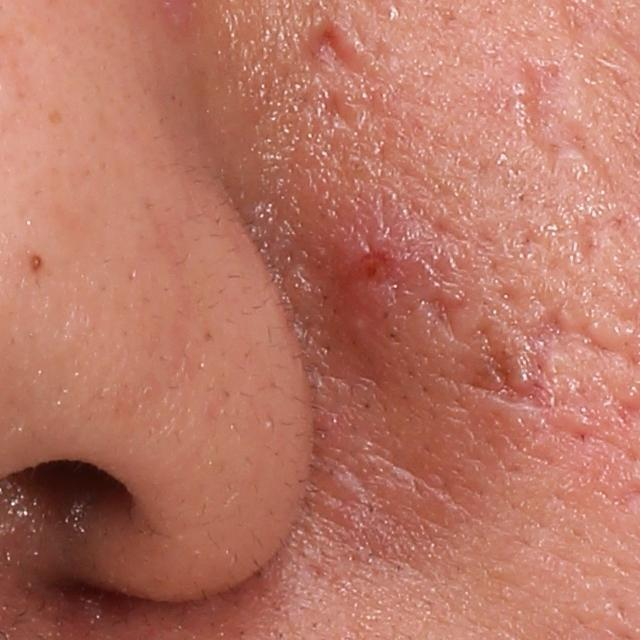atrophic_scar: (504, 64, 626, 204), (470, 317, 553, 419), (518, 305, 628, 364), (303, 18, 360, 81), (416, 277, 459, 343), (323, 84, 368, 138)
